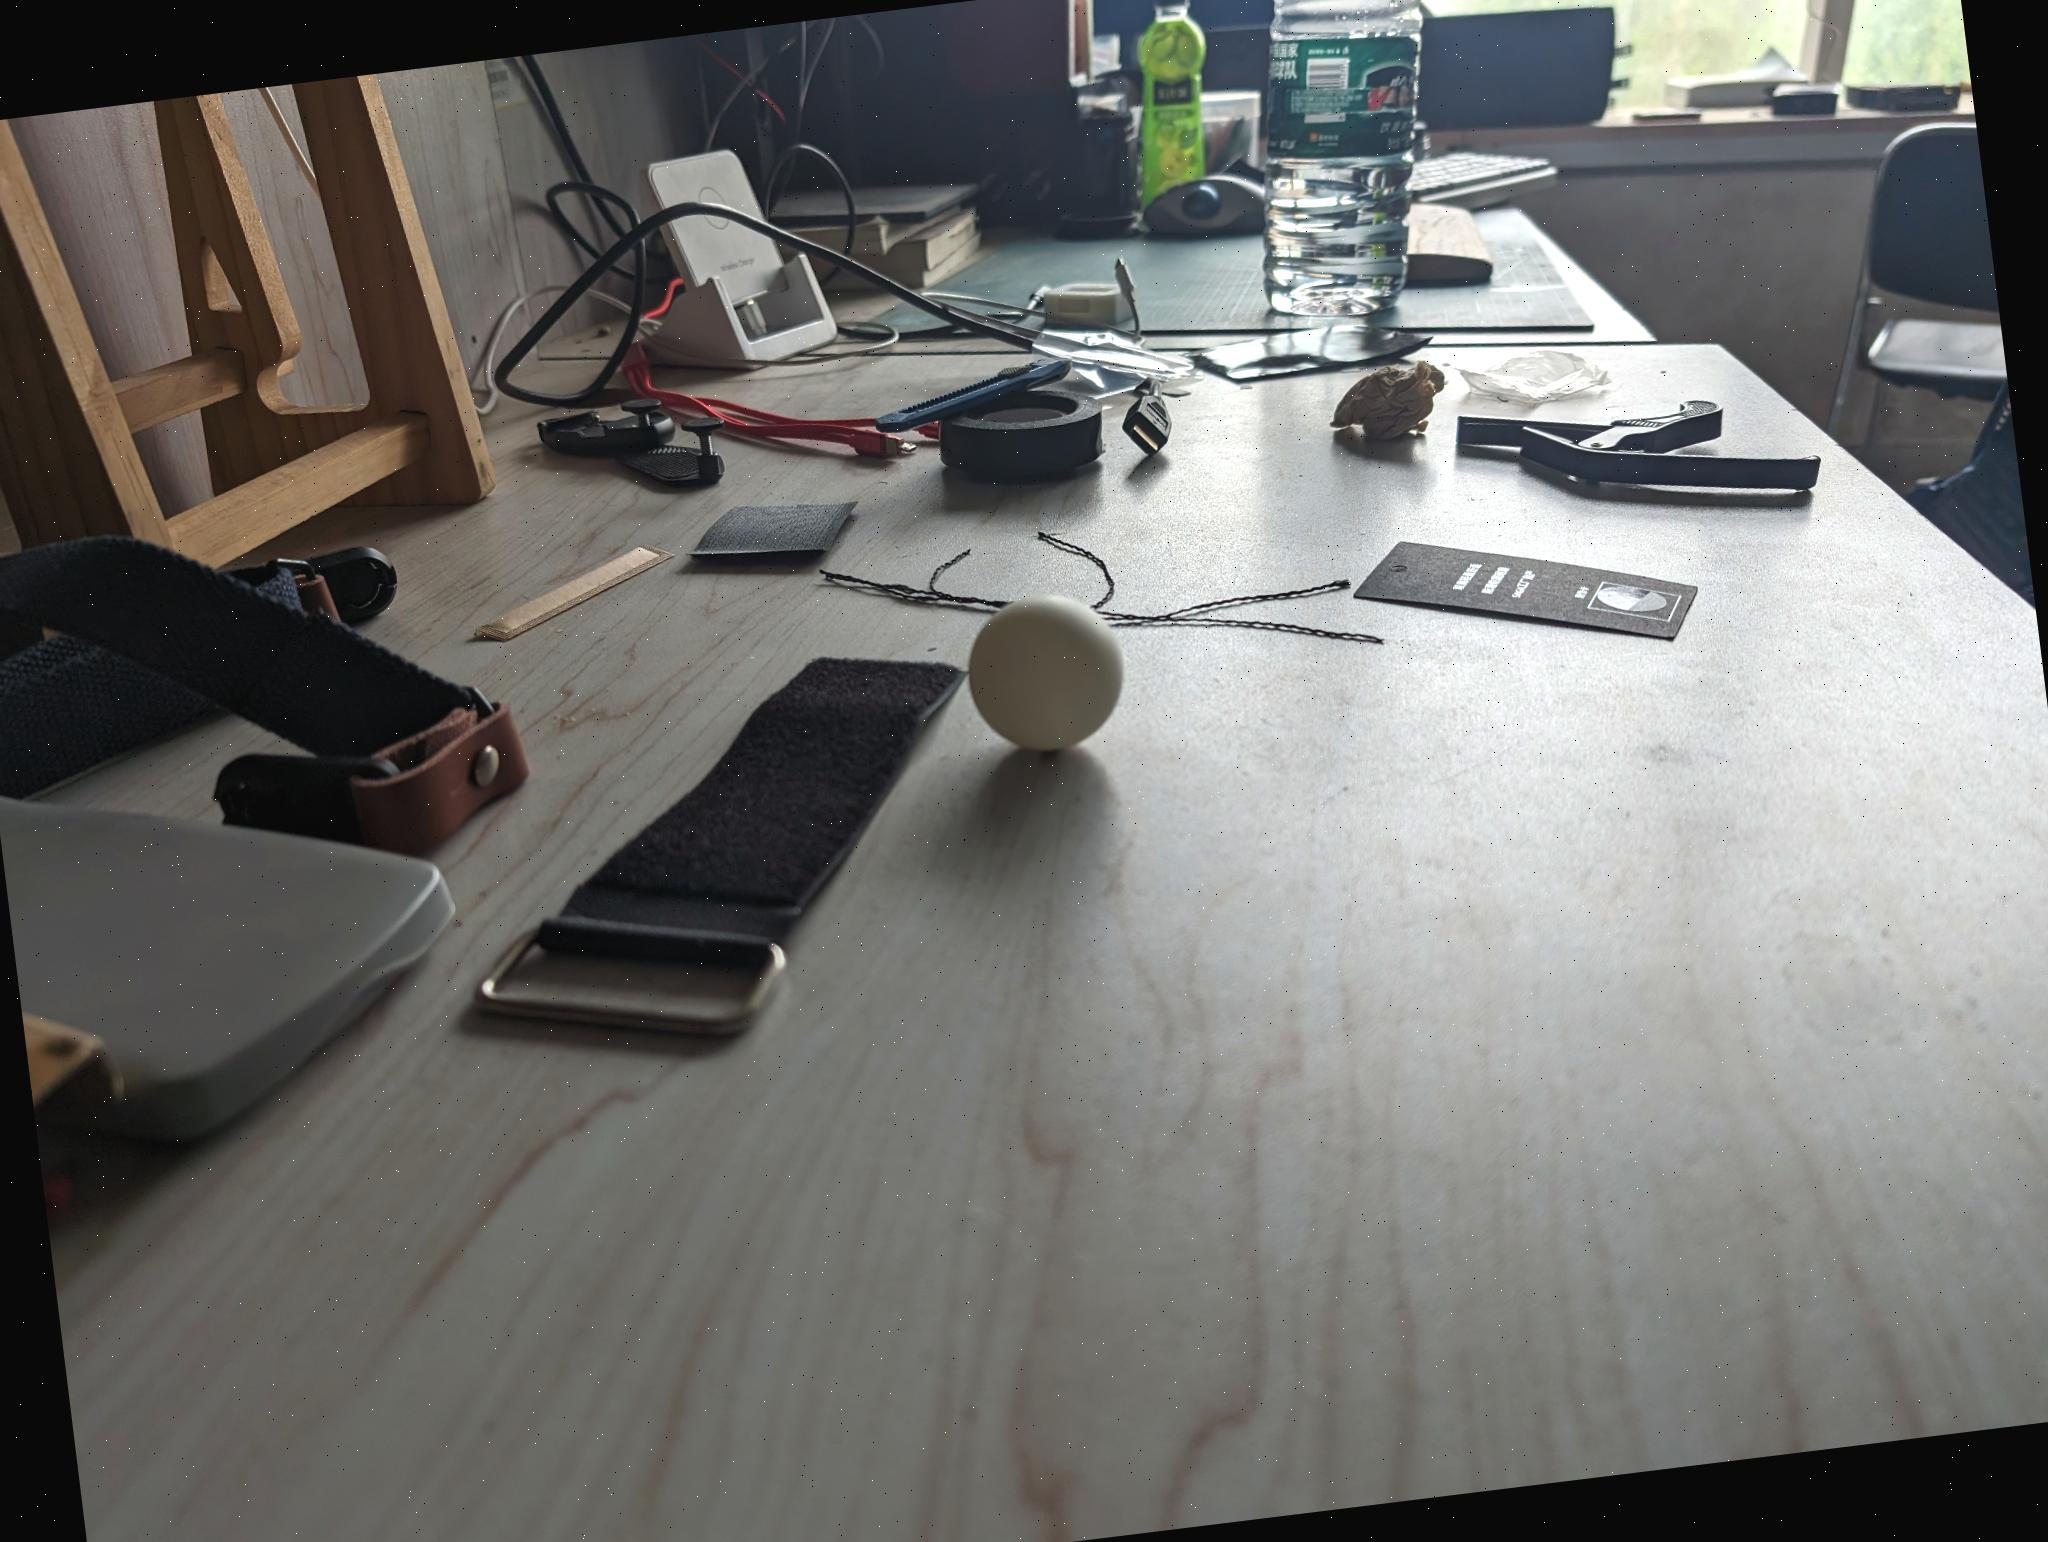ball: (955, 581, 1133, 769)
